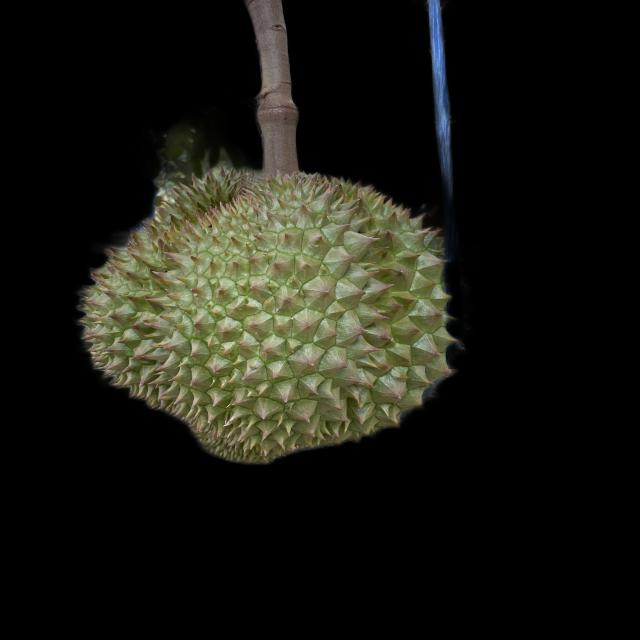immature: (76, 161, 457, 456)
